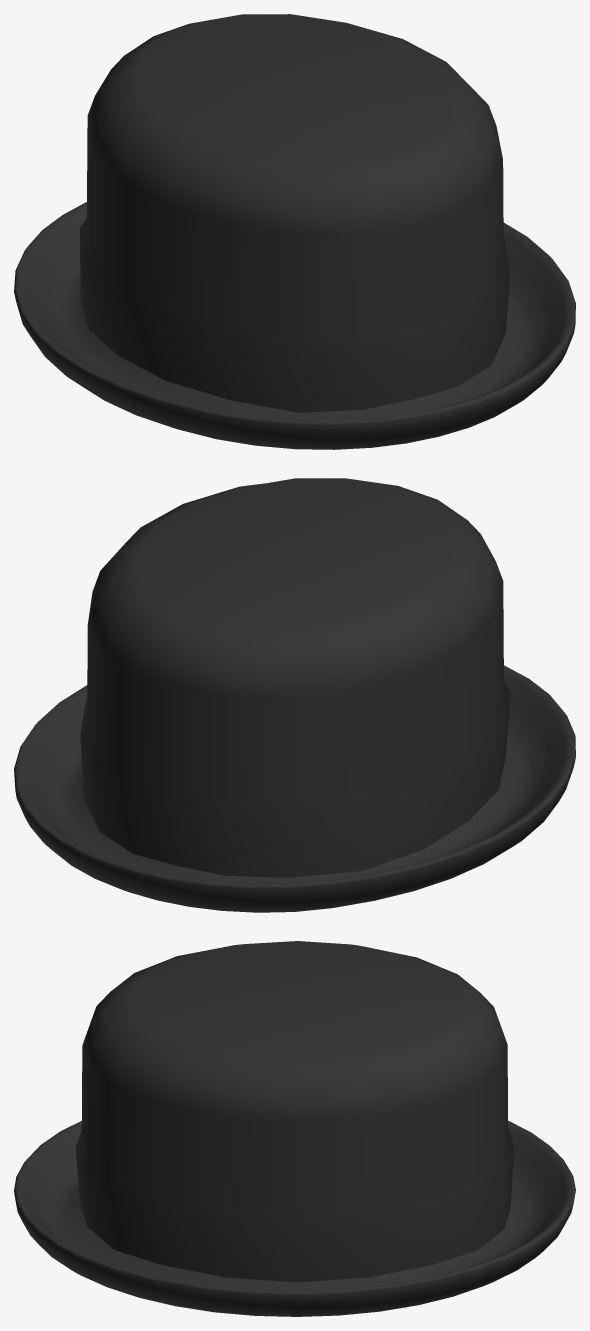
Rendered from cap4.fbx.
3 renders of one model, top to bottom at view 1: azimuth 30°, elevation 25°; view 2: azimuth 150°, elevation 25°; view 3: azimuth 270°, elevation 25°, orthographic. The views are drawn at different scales.
Visible parts, largest first — view 1: node_id54; view 2: node_id54; view 3: node_id54.
Boxes of the visible parts, x1,y1,x2,y2 form: node_id54: (14,14,575,449); node_id54: (14,478,575,912); node_id54: (14,941,575,1316).
Size of the model in its own units: 0.3881 by 0.2003 by 0.4387.
1 material, 1 textured.
